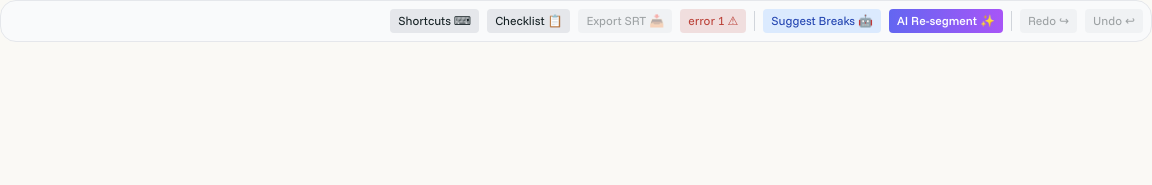
Test: the publish checklist › shows what still has to be true before publishing
Click the button "📋 Checklist" at (529, 21), box [487,9,570,33]
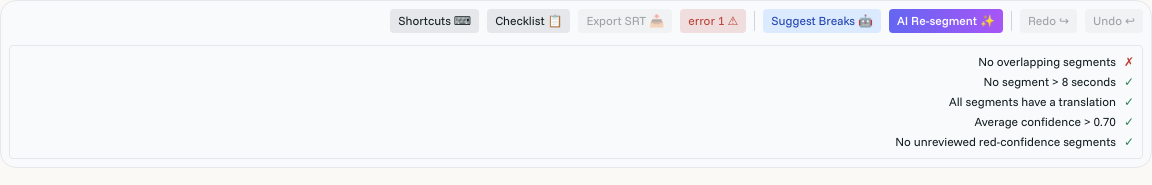
Expected: the text "No overlapping segments" is shown, [978,54,1116,70]
